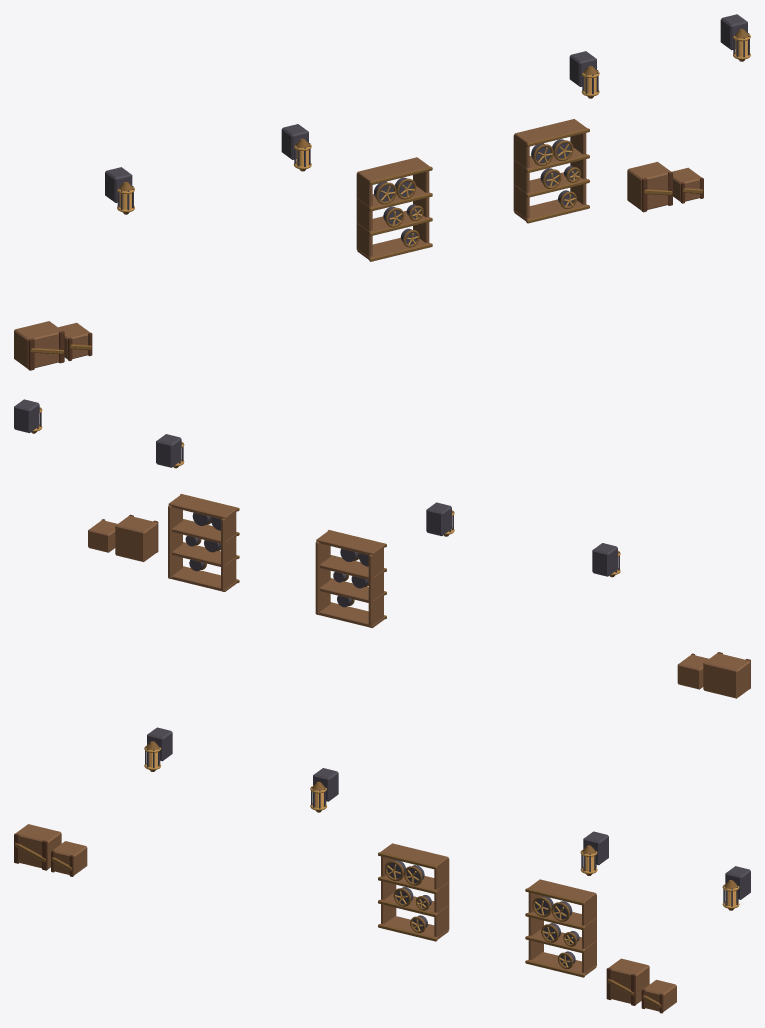
File: SM_RGB_WallProps.fbx
3 views of the same model, one above another, from view 1: azimuth 30°, elevation 25°; view 2: azimuth 150°, elevation 25°; view 3: azimuth 330°, elevation 25° (orthographic). The views are drawn at different scales.
Parts seen in each view (by area): view 1: SM_RGB_WallProps; view 2: SM_RGB_WallProps; view 3: SM_RGB_WallProps.
Boxes of the visible parts, x1,y1,x2,y2 form: SM_RGB_WallProps: [14, 14, 750, 370]; SM_RGB_WallProps: [14, 399, 750, 698]; SM_RGB_WallProps: [14, 727, 750, 1013].
Size of the model in its own units: 1494 by 137 by 281.
